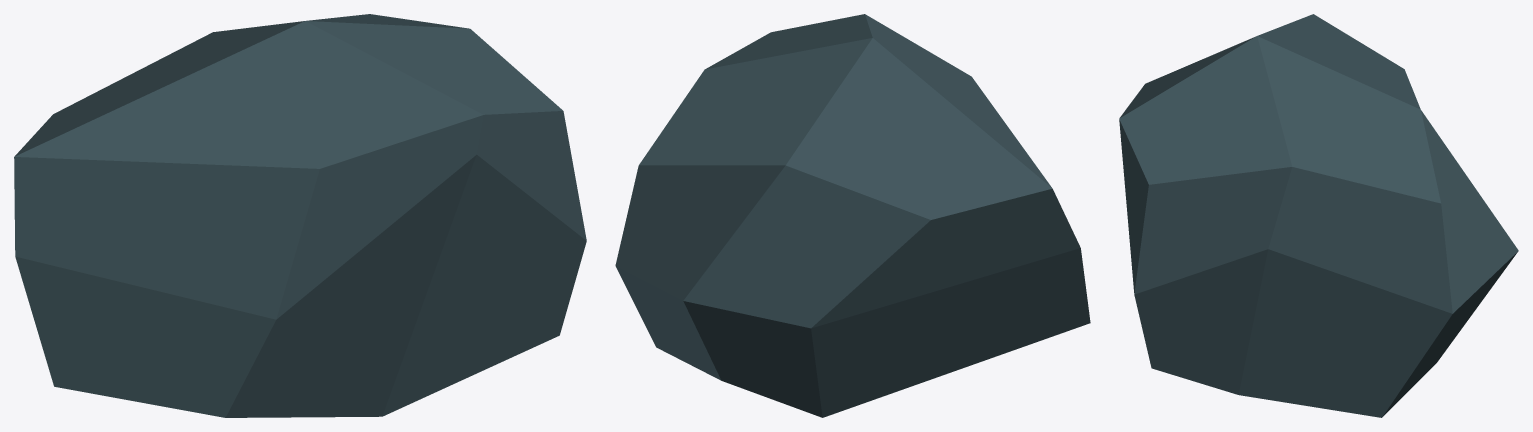
The model's file is pedra3.fbx.
3 renders of one model, left to right at view 1: azimuth 30°, elevation 25°; view 2: azimuth 150°, elevation 25°; view 3: azimuth 270°, elevation 25°, orthographic. The views are drawn at different scales.
Parts seen in each view (by area): view 1: pedra3; view 2: pedra3; view 3: pedra3.
Part boxes in pixels (<box>): pedra3: <box>14,14,586,417</box>; pedra3: <box>615,14,1090,417</box>; pedra3: <box>1119,14,1518,417</box>.
Size of the model in its own units: 24.24 by 18.9 by 21.23.
